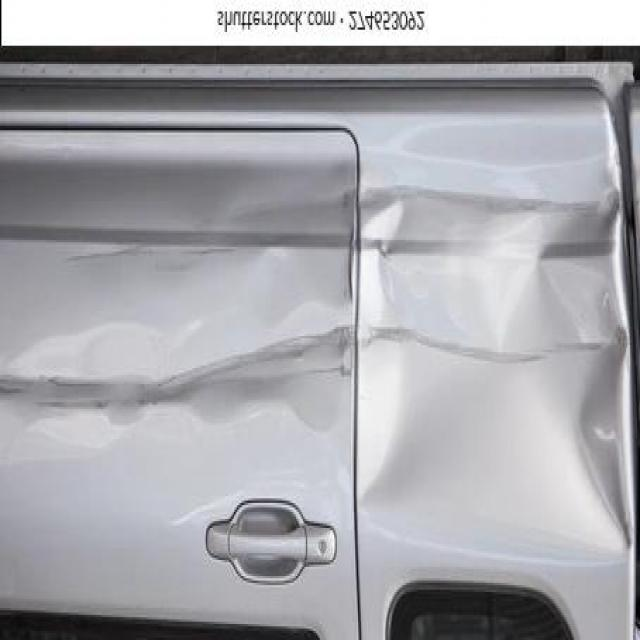dent: (350, 154, 631, 591), (0, 176, 347, 480)
